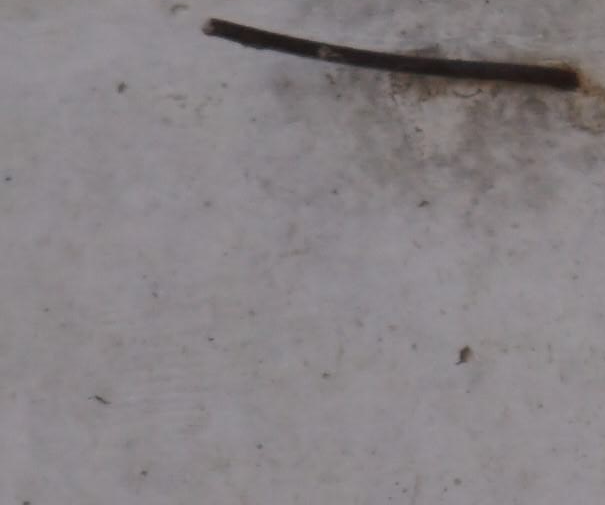Exposed reinforcement: (201, 17, 580, 93)
